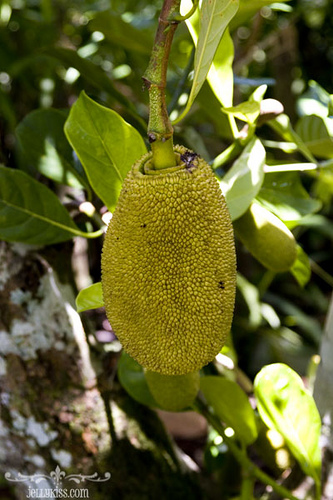jackfruit: (101, 147, 237, 376)
